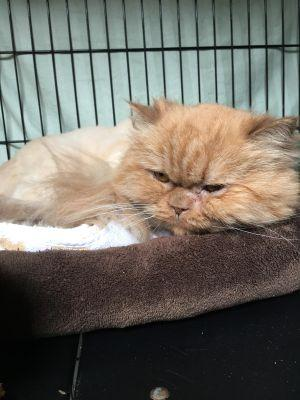persian: (121, 77, 294, 248)
